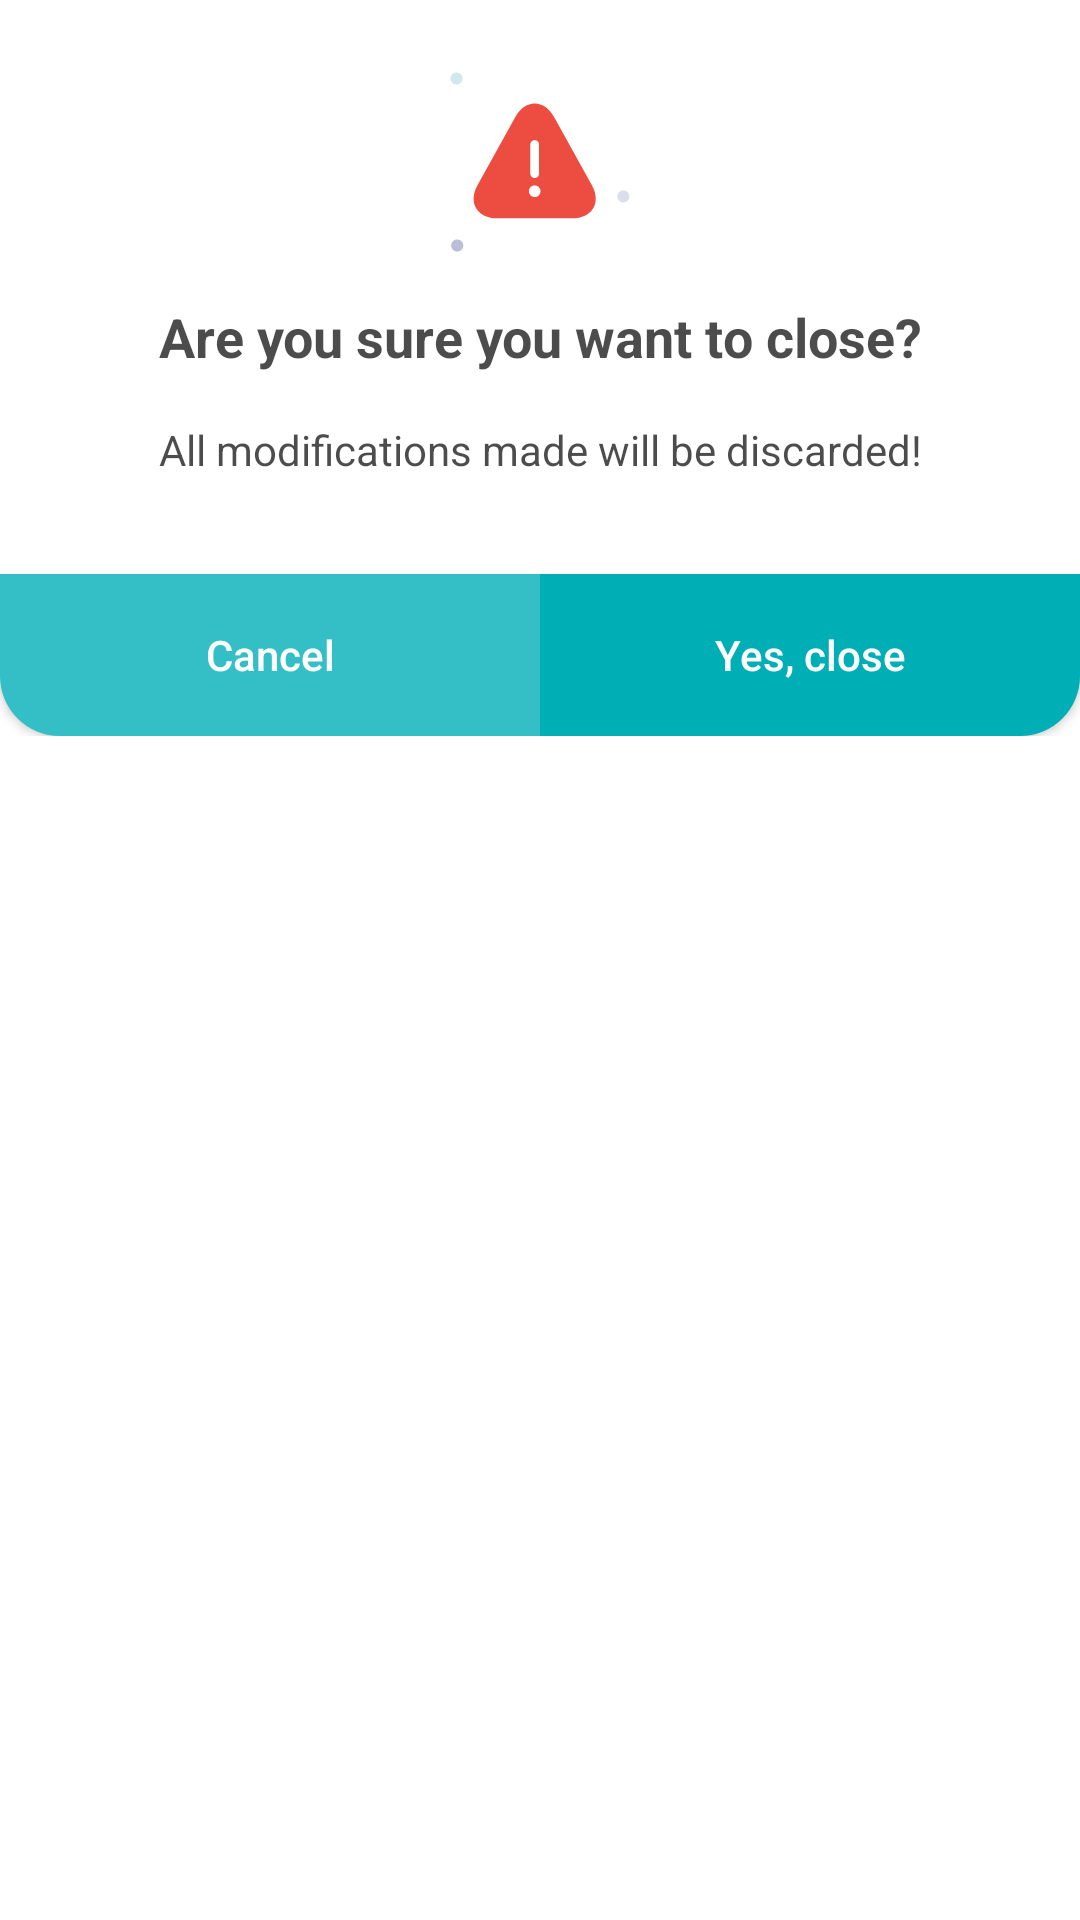

Screen size 1080w x 1920h. Icon name, then its center in pixels as point (x, y):
warning: point (540, 162)
